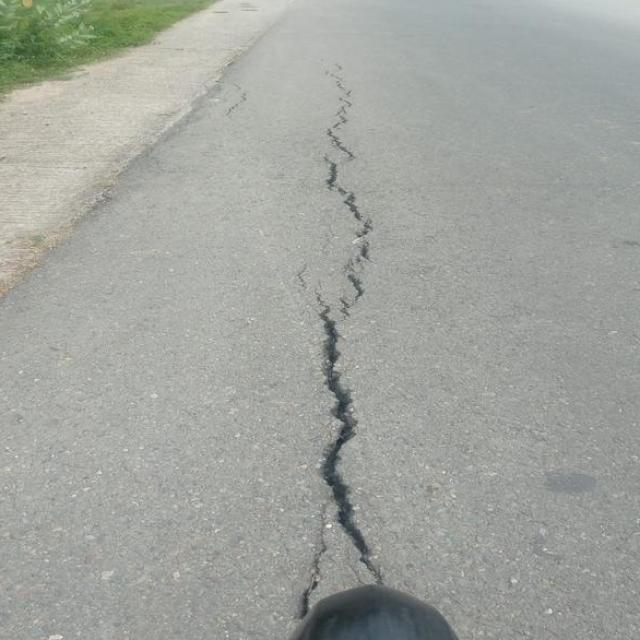Memanjang: (301, 65, 385, 574)
